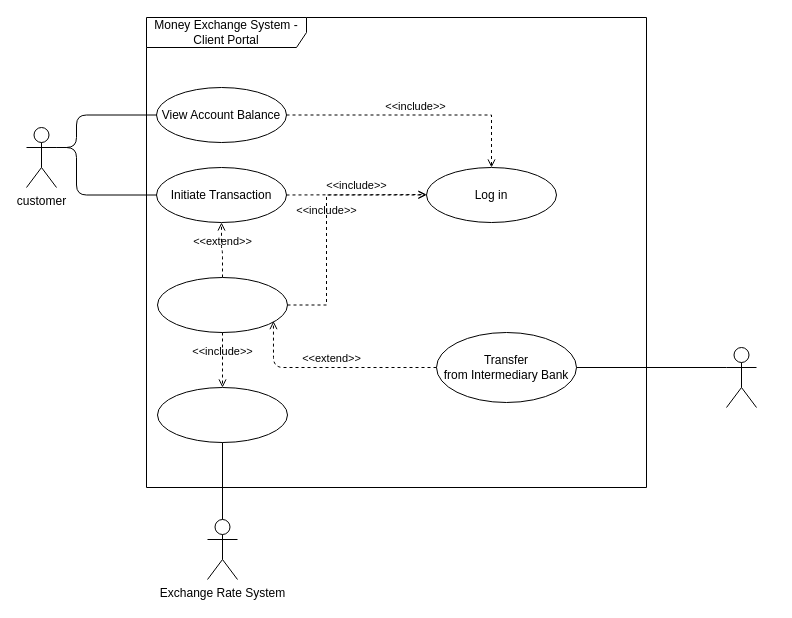
Image size: 792x618. Some labels were removed from this diagram. The box of each missing label's shape, as (x1, y1, x2, y2) in pixels:
Fetch Exchange Rate: (156, 386, 288, 442)
Intermediary Bank: (726, 346, 756, 408)
Perform Currency Exchage: (156, 276, 288, 332)
